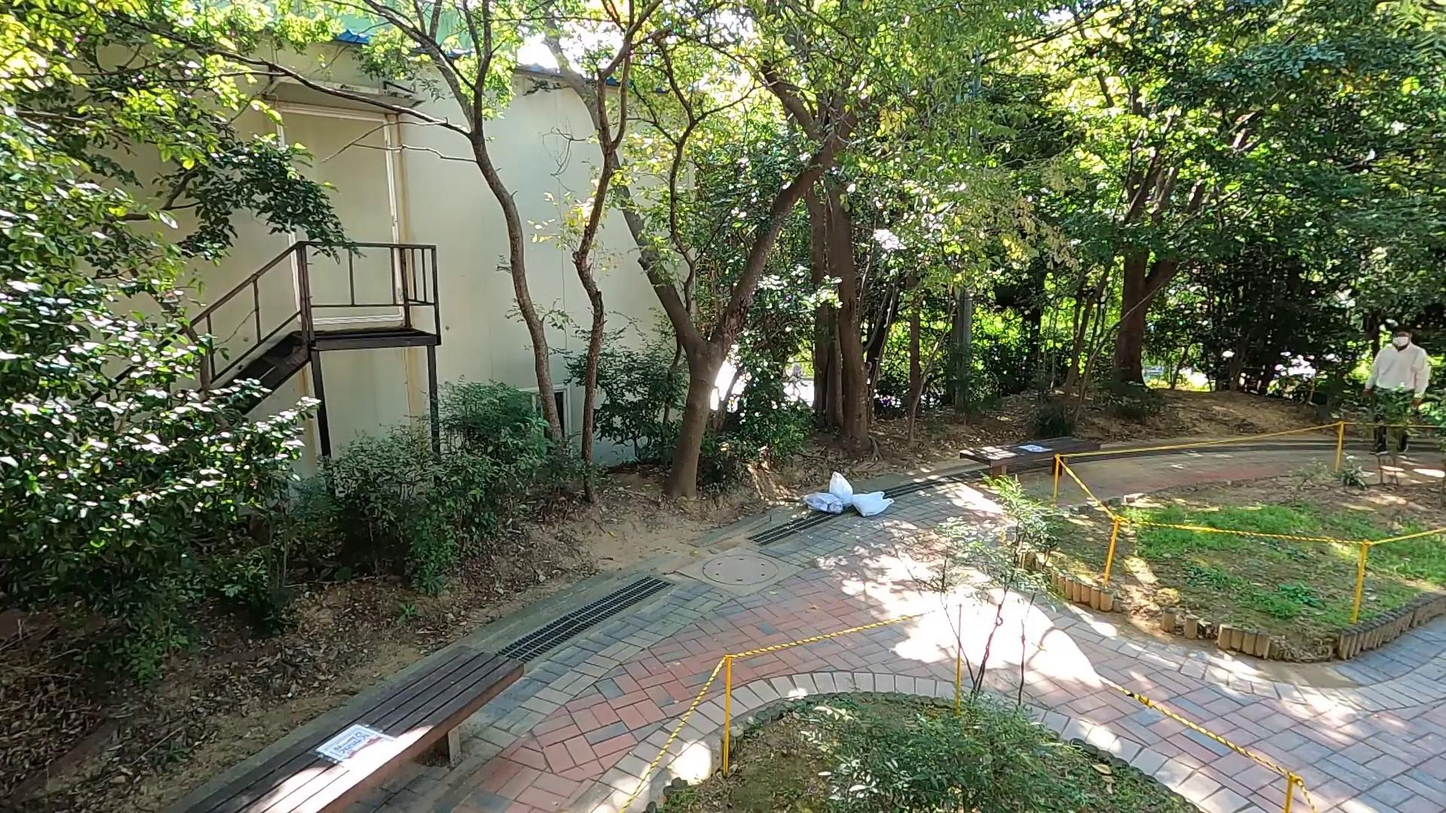trash: (853, 491, 896, 519), (831, 468, 852, 512), (807, 491, 843, 515)
